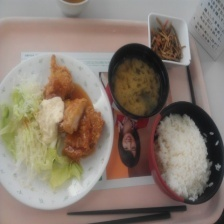rice: (154, 110, 213, 202)
